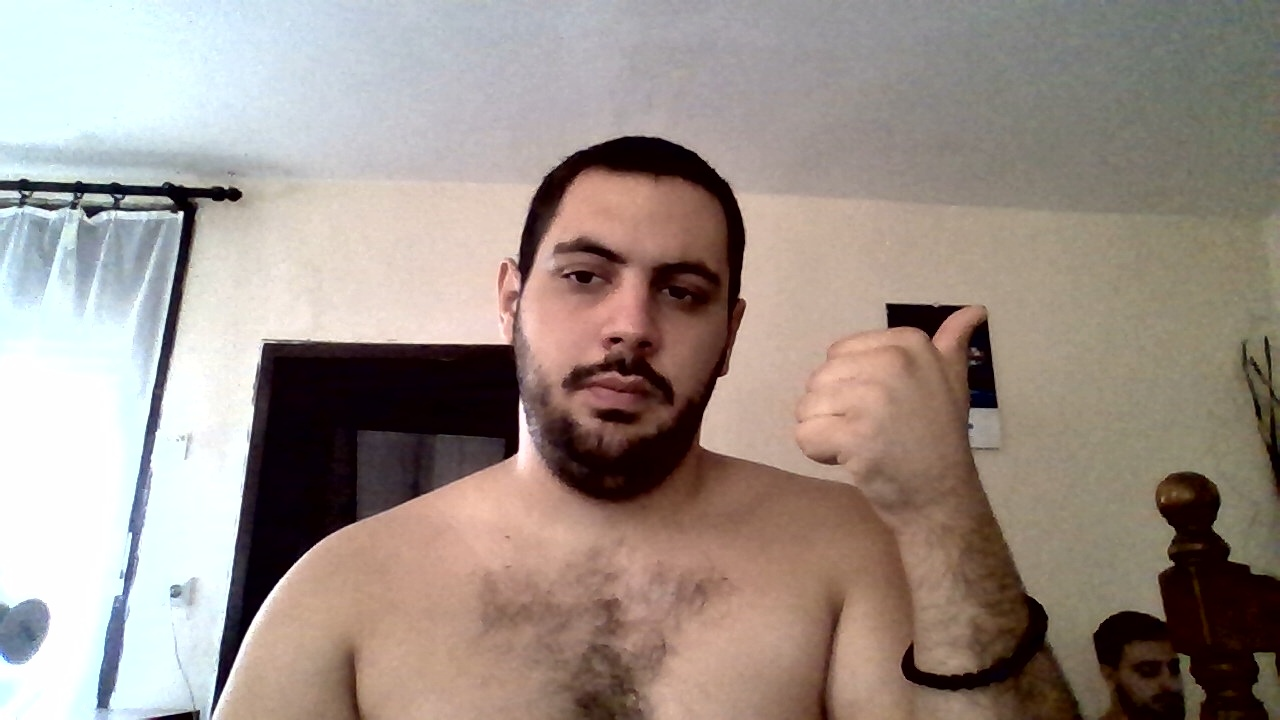like: (780, 303, 1002, 490)
